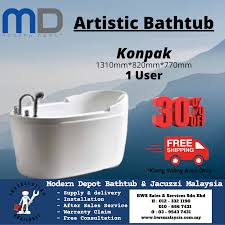bathub: (8, 82, 140, 178)
